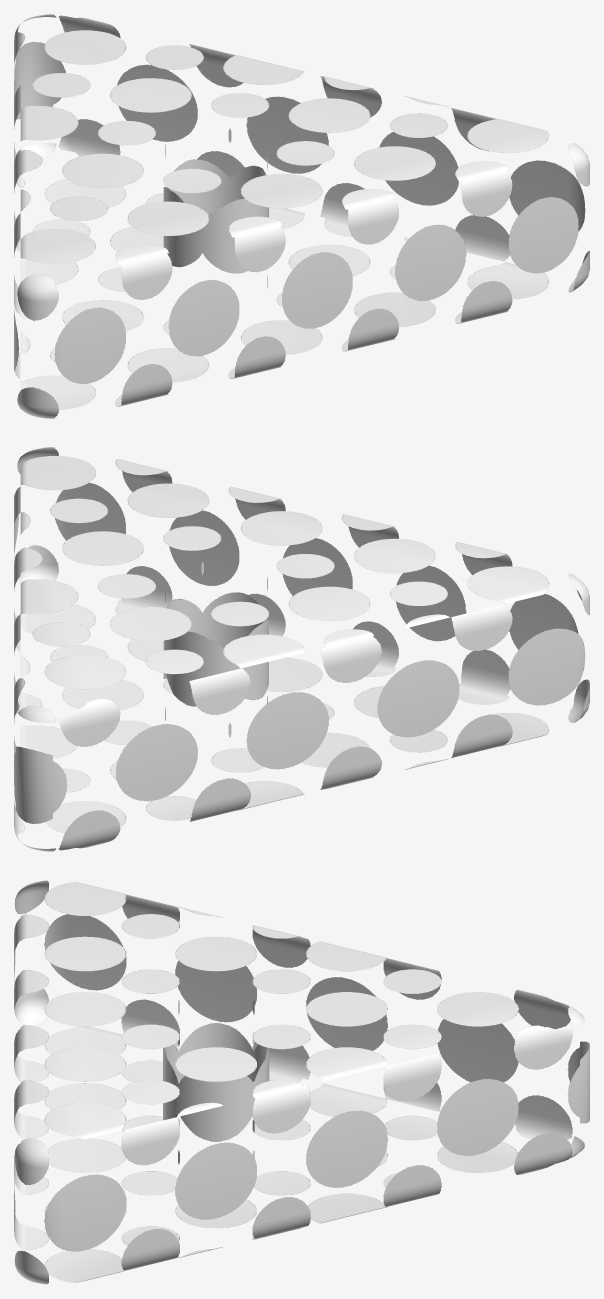
3 views of the same model, one above another, from view 1: azimuth 30°, elevation 25°; view 2: azimuth 150°, elevation 25°; view 3: azimuth 270°, elevation 25° (orthographic).
Parts seen in each view (by area): view 1: OriginalTriangle.011; view 2: OriginalTriangle.011; view 3: OriginalTriangle.011.
Boxes of the visible parts, x1=… form: OriginalTriangle.011: x1=14, y1=14, x2=589, y2=418; OriginalTriangle.011: x1=14, y1=447, x2=589, y2=851; OriginalTriangle.011: x1=14, y1=880, x2=589, y2=1284.
Bounding box in the file's own units: 289 × 71.37 × 254.
